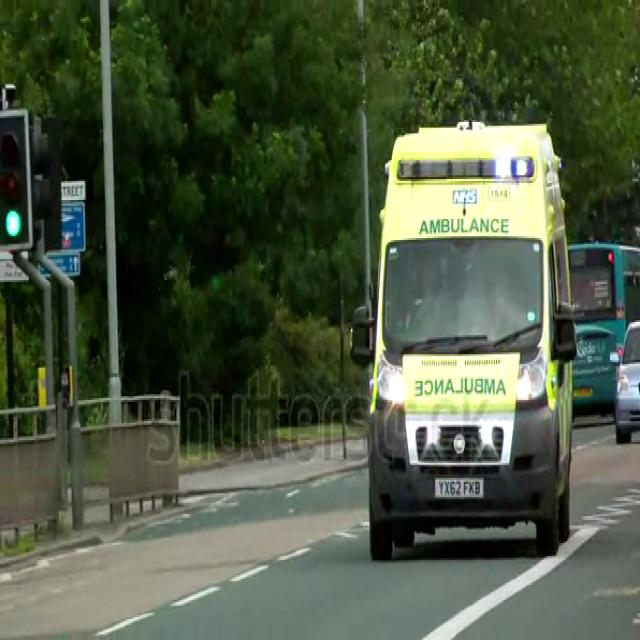ambulance: (349, 118, 579, 556)
